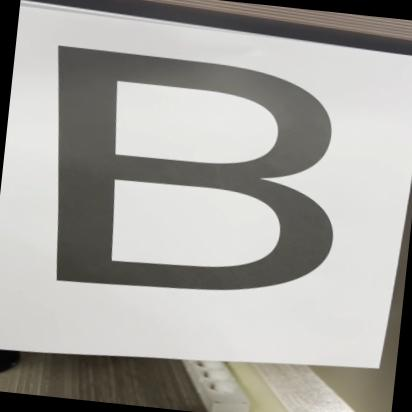seat: (18, 30, 380, 316)
